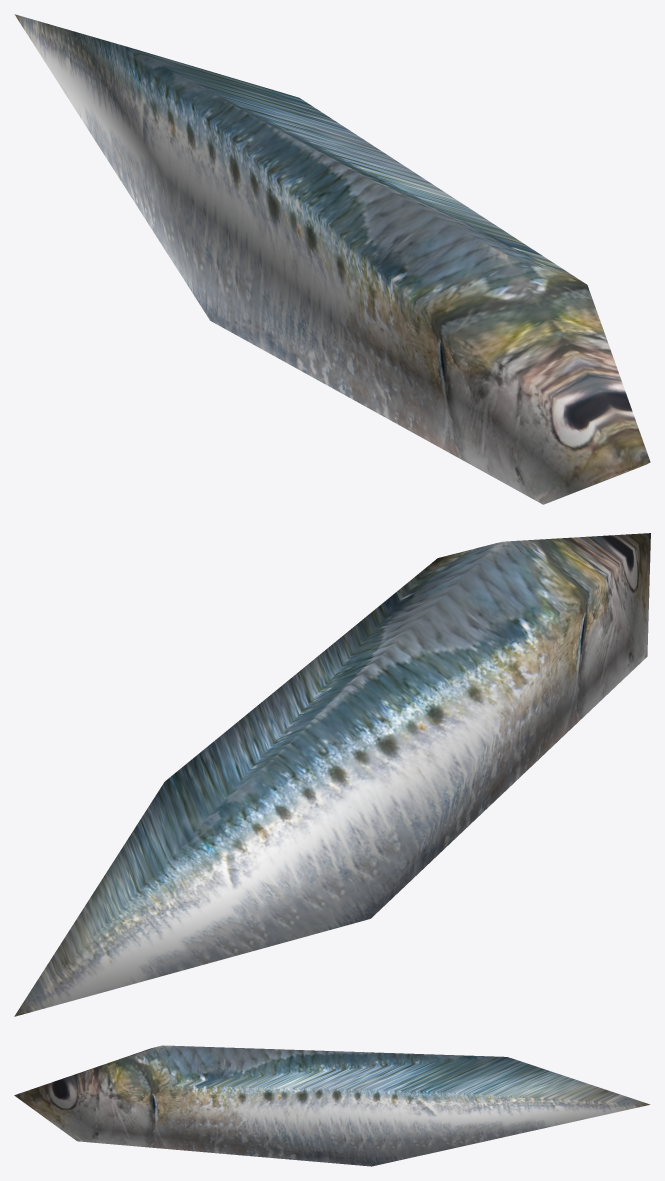
File: boidModel_lod.glb
The picture shows the model from 3 angles, top to bottom: view 1: azimuth 30°, elevation 25°; view 2: azimuth 150°, elevation 25°; view 3: azimuth 270°, elevation 25°; orthographic projection. The views are drawn at different scales.
Parts seen in each view (by area): view 1: Cube.002; view 2: Cube.002; view 3: Cube.002.
Boxes of the visible parts, left/top/right/bottom form: Cube.002: left=14, top=14, right=650, bottom=504; Cube.002: left=14, top=533, right=650, bottom=1016; Cube.002: left=14, top=1045, right=650, bottom=1166.
Bounding box in the file's own units: 0.0627 × 0.0891 × 0.4292.
1 material, 1 textured.
